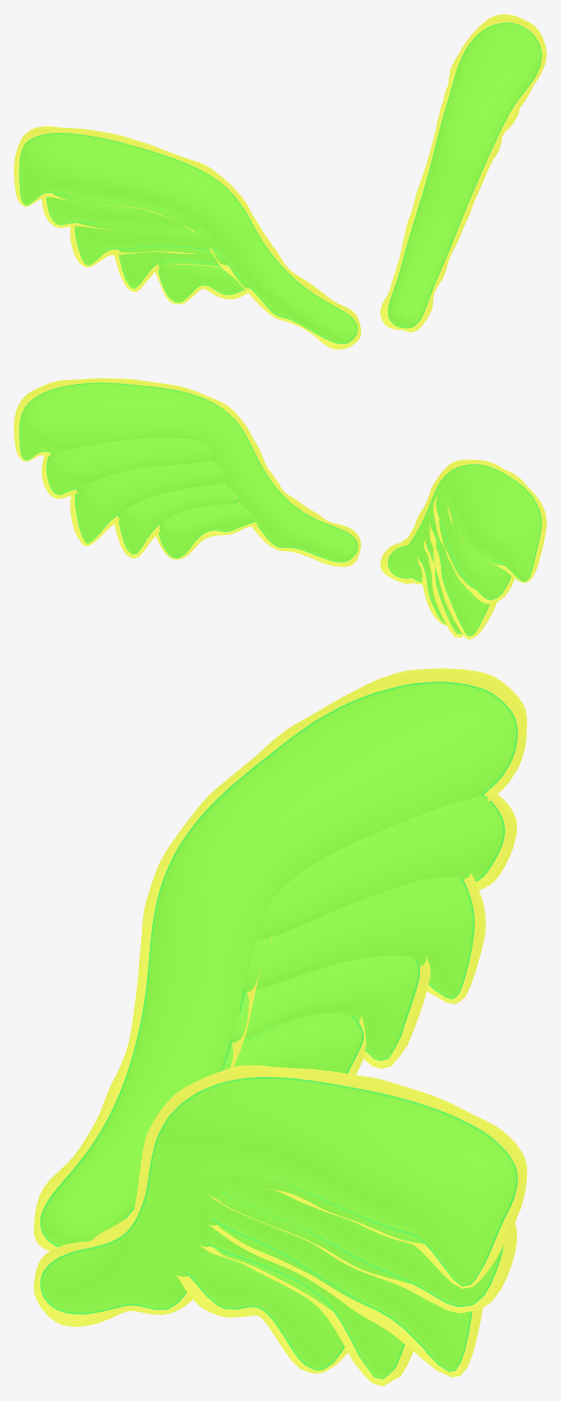
The model's file is BACK.CHEMISTRY.RADIOACTIVE.glb.
3 views of the same model, one above another, from view 1: azimuth 30°, elevation 25°; view 2: azimuth 150°, elevation 25°; view 3: azimuth 270°, elevation 25° (orthographic). The views are drawn at different scales.
Parts seen in each view (by area): view 1: BACK.CHEMISTRY.RADIOACTIVE; view 2: BACK.CHEMISTRY.RADIOACTIVE; view 3: BACK.CHEMISTRY.RADIOACTIVE.
Part boxes in pixels (x1,y1,x2,y2): BACK.CHEMISTRY.RADIOACTIVE: (14, 14, 546, 349); BACK.CHEMISTRY.RADIOACTIVE: (14, 378, 546, 639); BACK.CHEMISTRY.RADIOACTIVE: (33, 668, 527, 1386).
Size of the model in its own units: 4.9 by 1.77 by 2.01.
